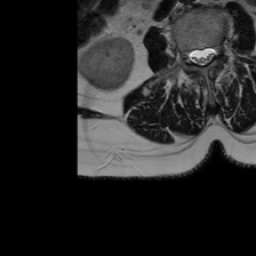CCS_normal: (198, 40, 206, 74)
LFS_normal: (214, 36, 222, 64)
LLS_normal: (206, 40, 215, 66)
RFS_normal: (181, 42, 189, 69)
RLS_normal: (189, 42, 198, 69)
